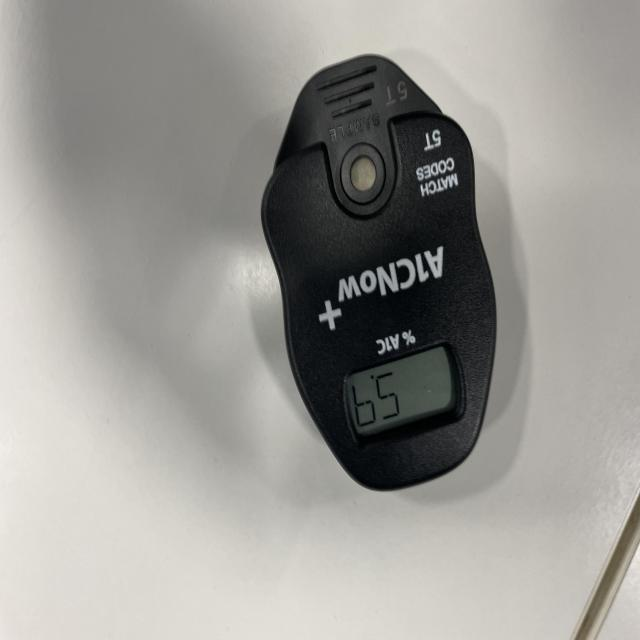hba1c: (259, 55, 499, 495)
